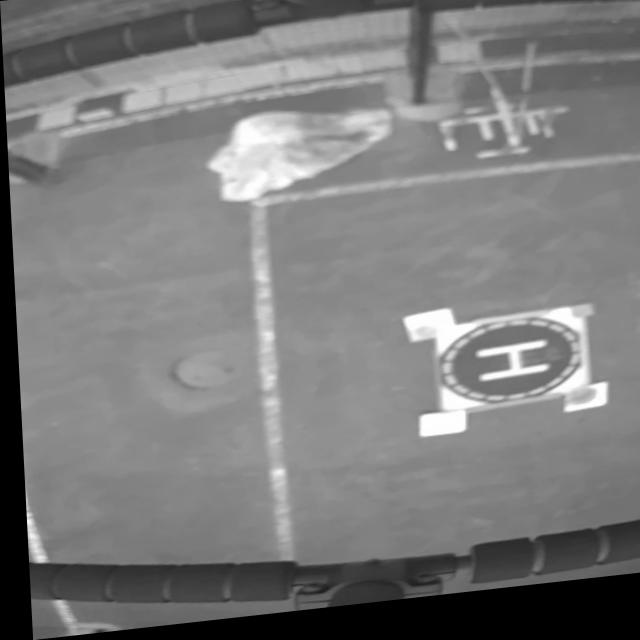Helipad: (468, 348, 550, 392)
